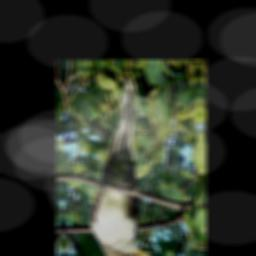Cuckoo: (85, 76, 152, 256)
